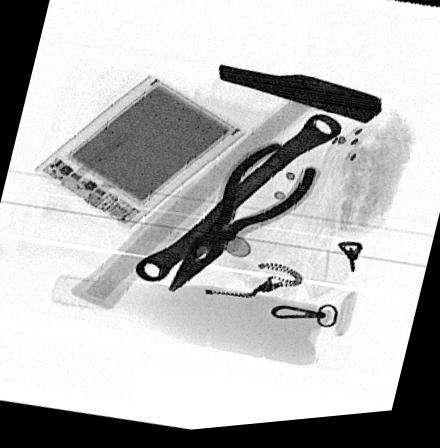Hammer: (69, 68, 382, 311)
Pliers: (166, 145, 321, 295)
Powerbank: (32, 75, 248, 231)
Wrench: (133, 120, 343, 284)
